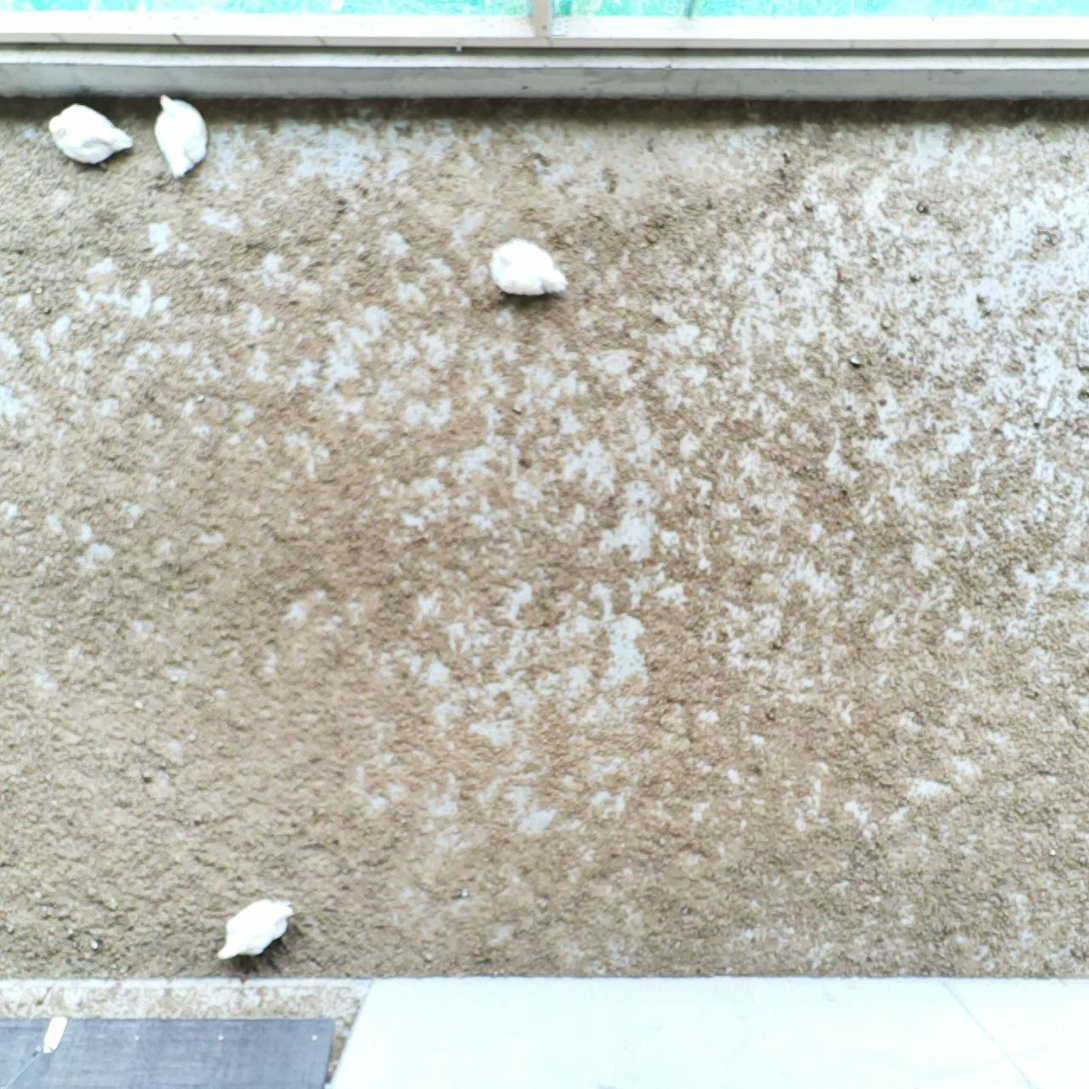chicken: (46, 99, 137, 170), (214, 892, 297, 969), (487, 234, 572, 301), (153, 92, 213, 182)
